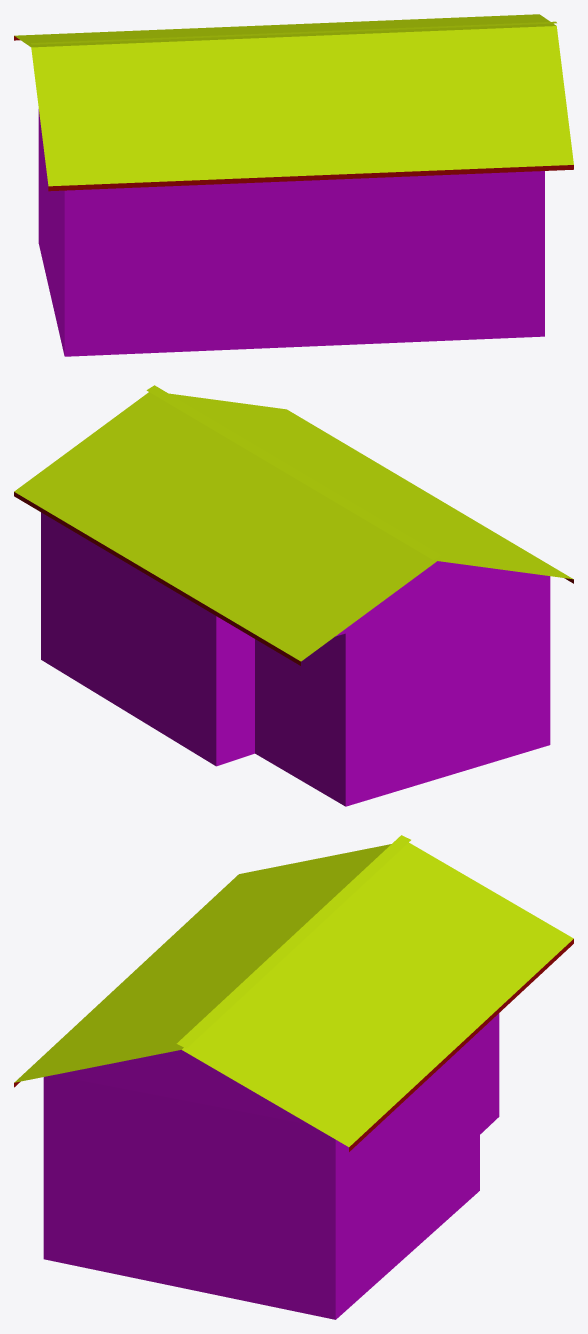
The model's file is dol_62.glb.
The picture shows the model from 3 angles, top to bottom: view 1: azimuth 30°, elevation 25°; view 2: azimuth 150°, elevation 25°; view 3: azimuth 270°, elevation 25°; orthographic projection. The views are drawn at different scales.
Visible parts, largest first — view 1: dol_62; view 2: dol_62; view 3: dol_62.
Boxes of the visible parts, x1,y1,x2,y2 form: dol_62: (14, 14, 573, 356); dol_62: (14, 385, 573, 806); dol_62: (14, 835, 573, 1319).
Size of the model in its own units: 13.96 by 6.05 by 12.09.
